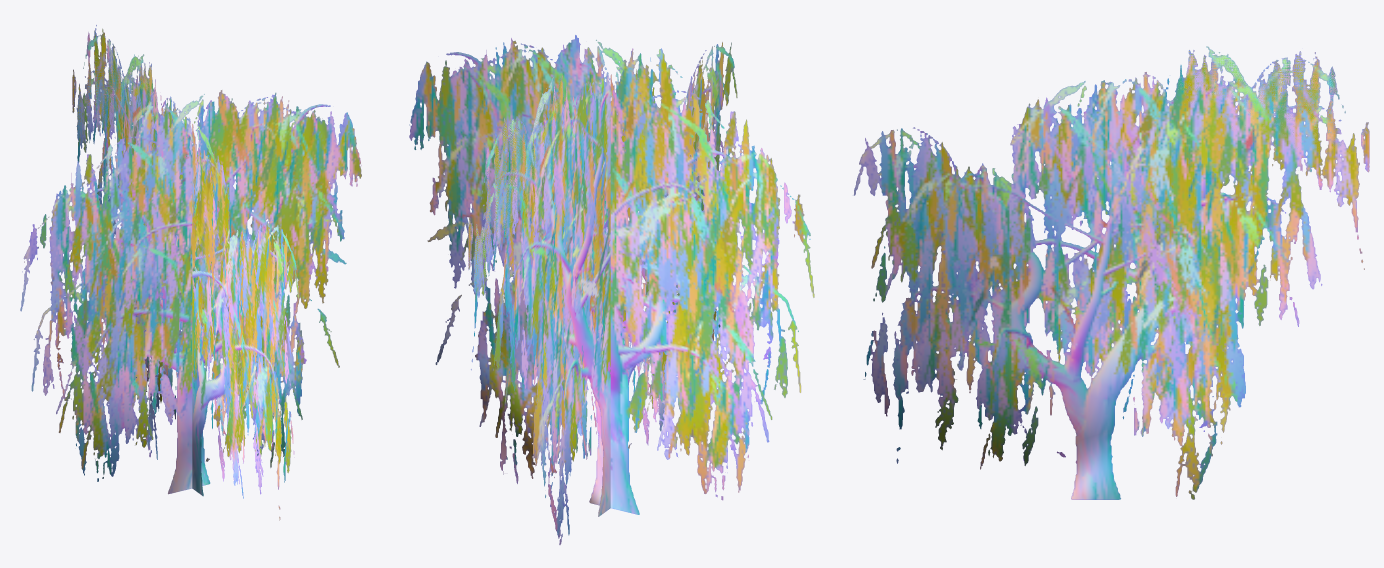
Rendered from tree_willow_01_CROSS.FBX.
3 renders of one model, left to right at view 1: azimuth 30°, elevation 25°; view 2: azimuth 150°, elevation 25°; view 3: azimuth 270°, elevation 25°, orthographic. The views are drawn at different scales.
Visible parts, largest first — view 1: 01_willow_01_CROSS; view 2: 01_willow_01_CROSS; view 3: 01_willow_01_CROSS.
Boxes of the visible parts, x1,y1,x2,y2 form: 01_willow_01_CROSS: (20,25,361,520); 01_willow_01_CROSS: (409,35,814,544); 01_willow_01_CROSS: (853,46,1369,499).
Size of the model in its own units: 641 by 718 by 711.
